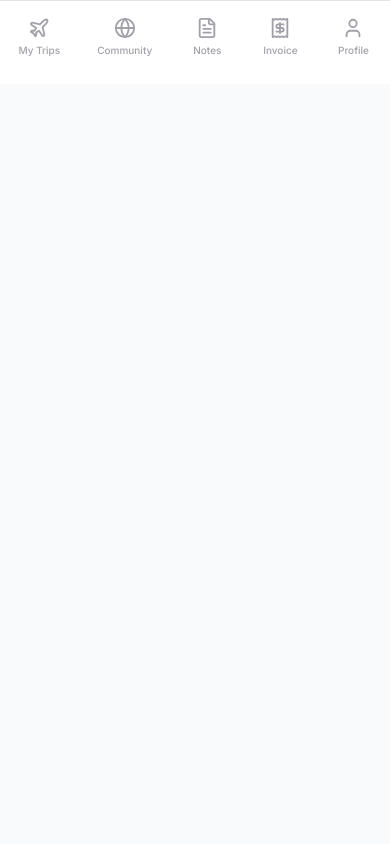
Test: BottomNav › FE-COMP-BOTTOMNAV-004: profile sheet opens on click
Click the button "Profile".
click(354, 38)  # box 324,13 -> 384,62
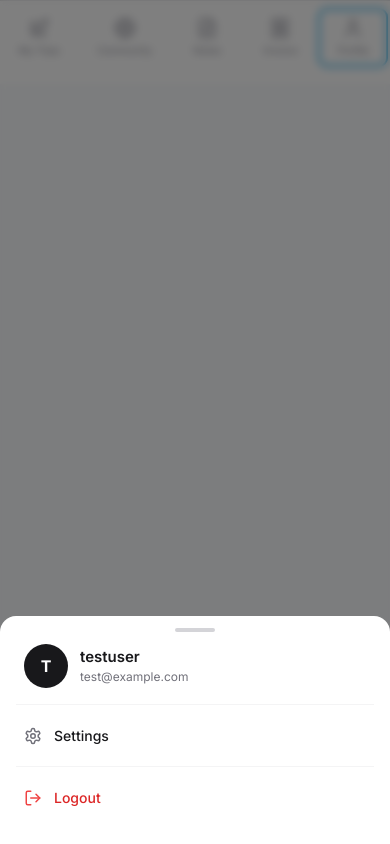
Expected: the text "testuser" is shown, 80,647 -> 140,666
